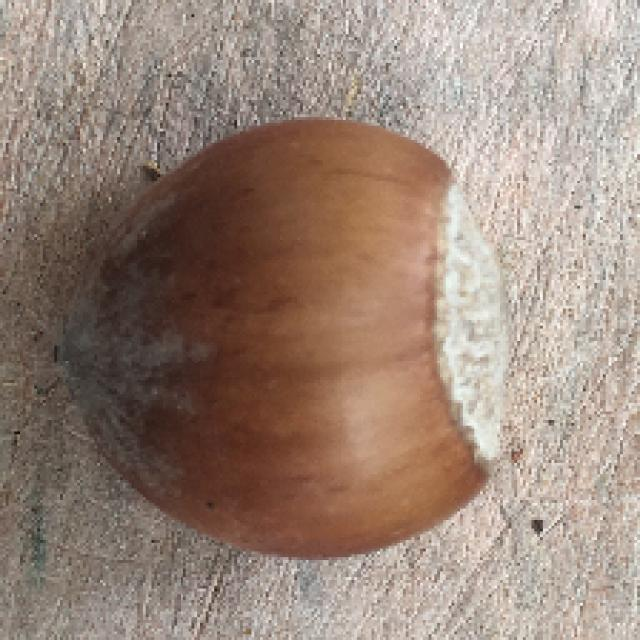qualityHazelnut: (36, 98, 533, 561)
